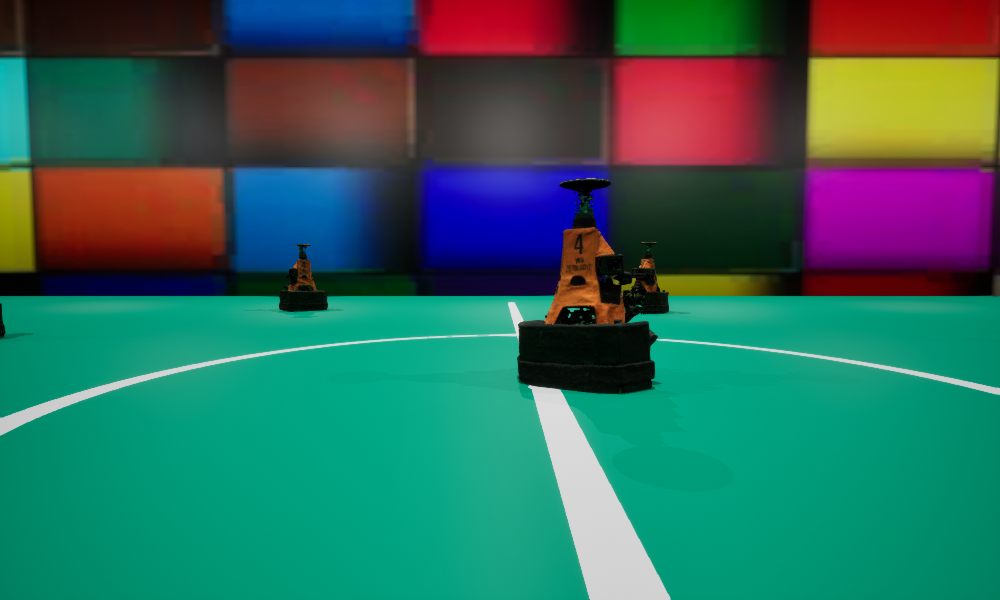o: (517, 178, 657, 393), (278, 244, 327, 310), (623, 242, 668, 312), (0, 303, 5, 336)
